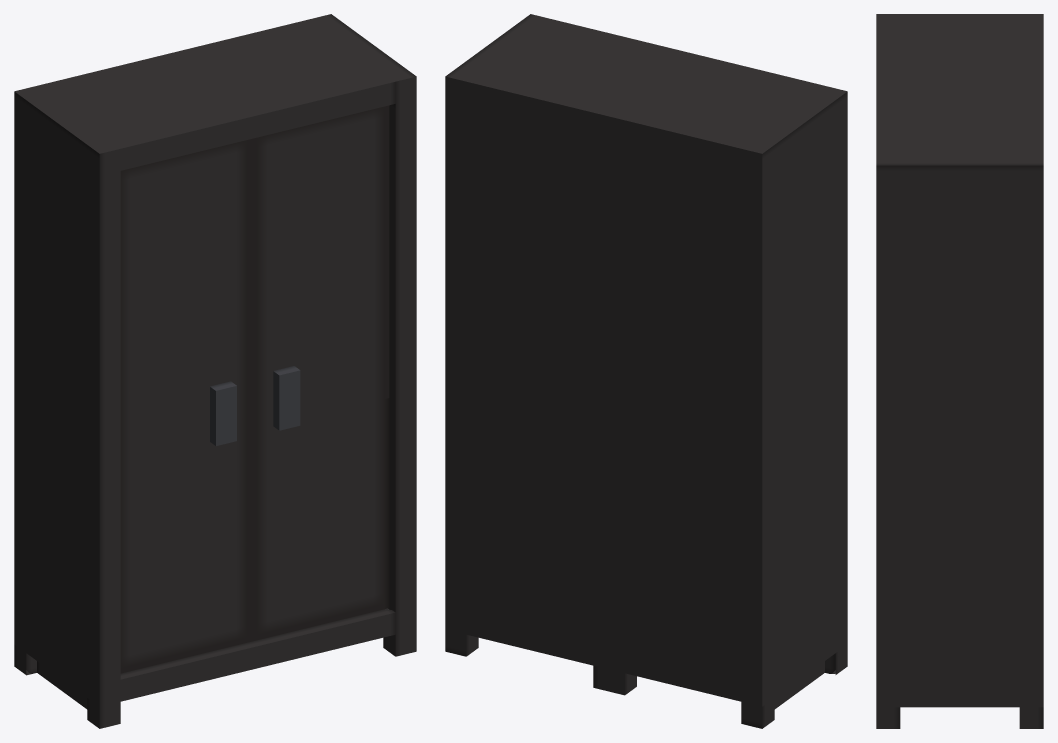
The model's file is szafa.dae.
3 views of the same model, side by side, from view 1: azimuth 30°, elevation 25°; view 2: azimuth 150°, elevation 25°; view 3: azimuth 270°, elevation 25° (orthographic). The views are drawn at different scales.
Parts seen in each view (by area): view 1: Content; view 2: Content; view 3: Content.
Boxes of the visible parts, left/top/right/bottom form: Content: left=14, top=14, right=416, bottom=728; Content: left=445, top=14, right=847, bottom=728; Content: left=876, top=14, right=1043, bottom=728.
Size of the model in its own units: 30 by 52 by 14.
1 material, 1 textured.
